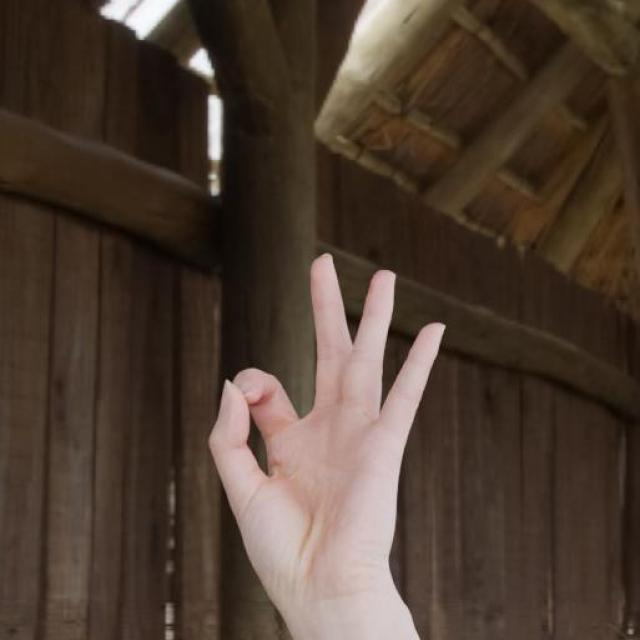F: (202, 250, 453, 600)
